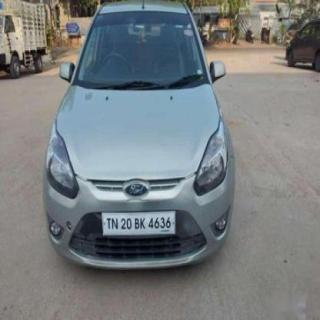Normal_vehicle: (43, 0, 235, 268)
